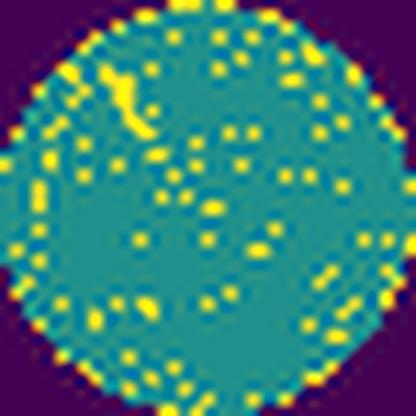Loc: (96, 65, 161, 140)
